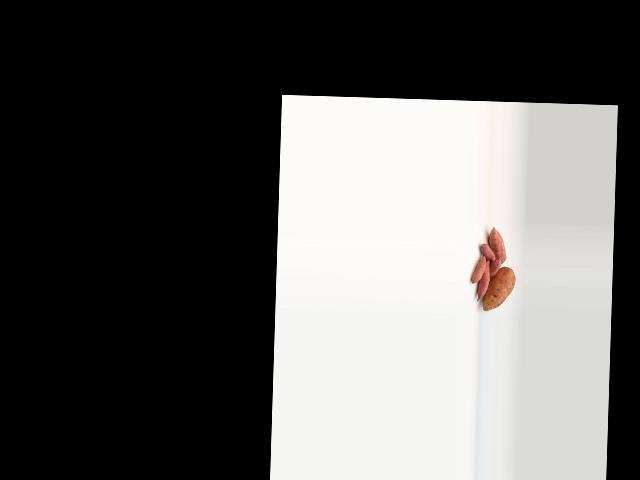sweet_potato: (487, 225, 507, 263)
